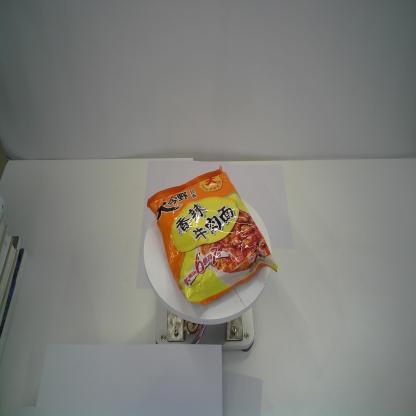Instant Noodles: (146, 166, 279, 307)
